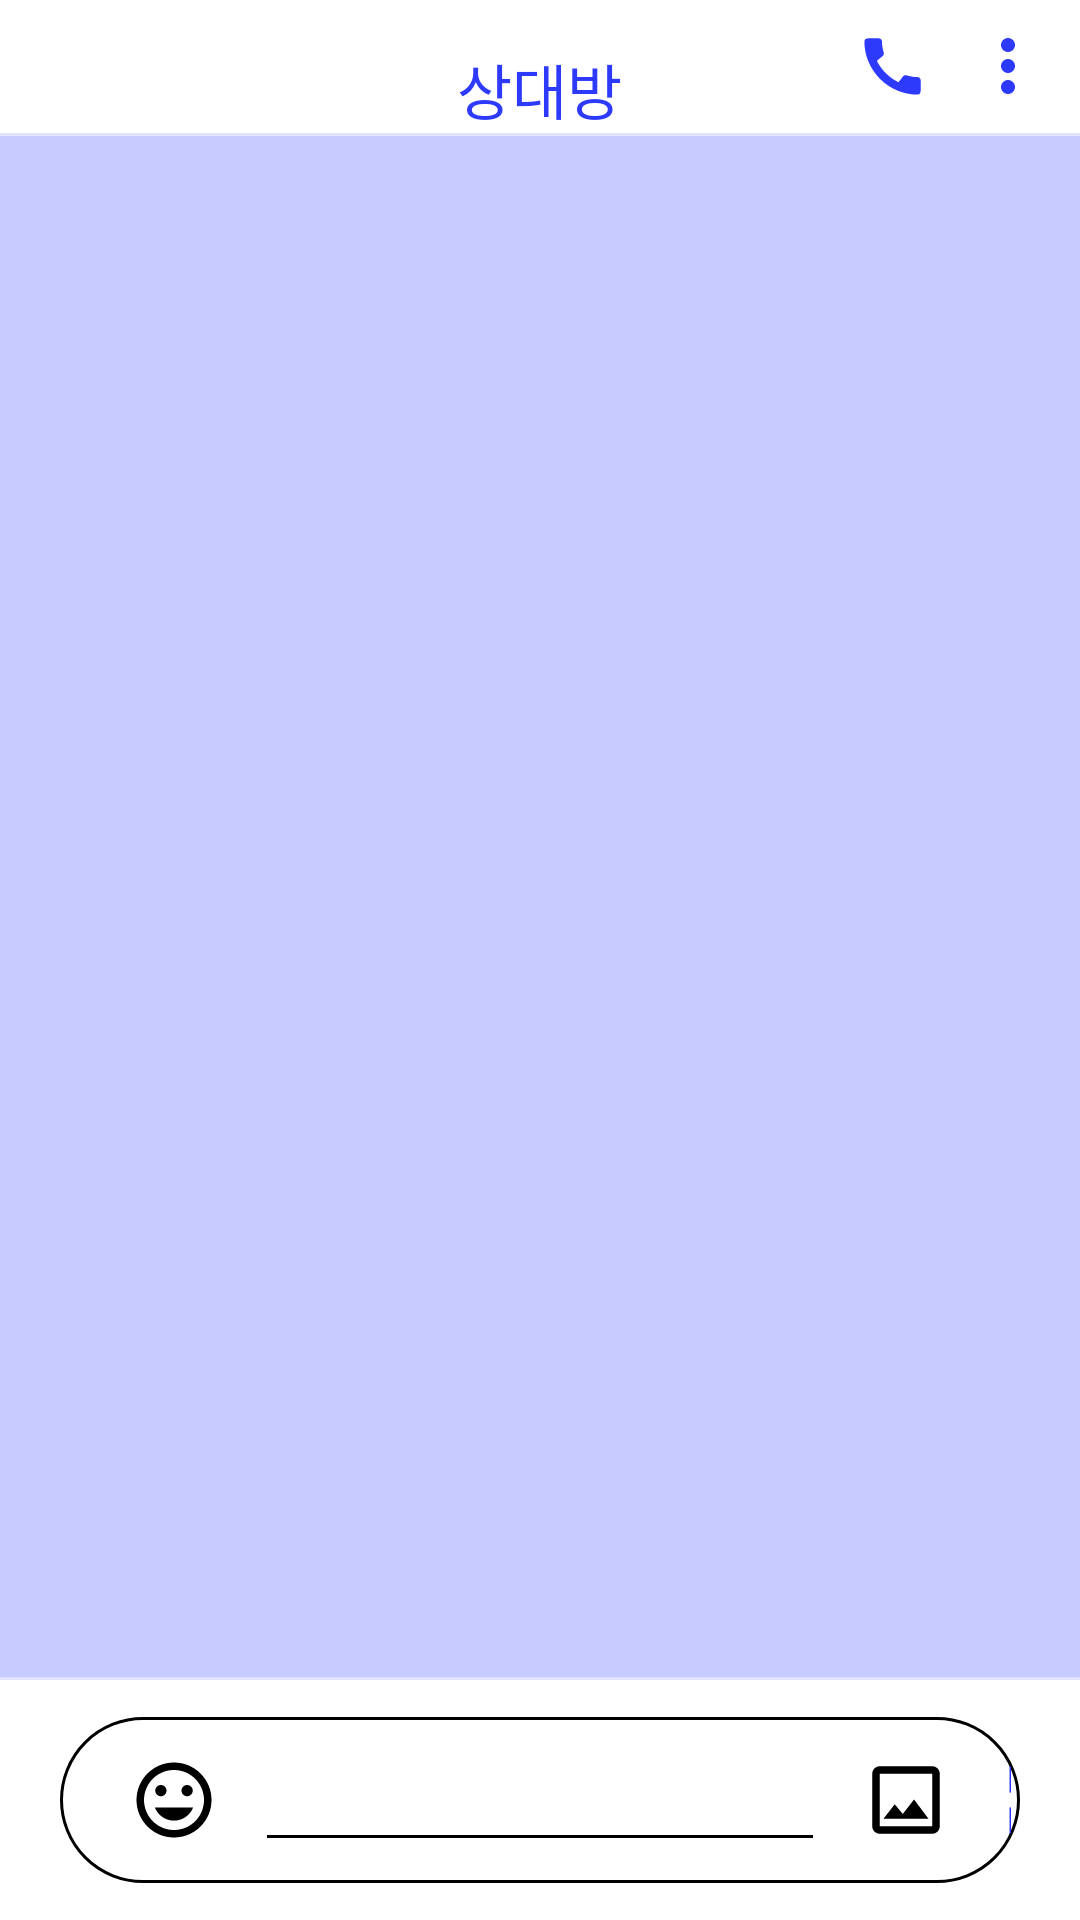

Icon bounding boxes for this 1080 x 1920 phone screenshot, format (x1, y1, x2, y2):
call: (864, 38, 921, 95)
more: (1001, 38, 1015, 94)
msg chat photo: (872, 1766, 940, 1834)
smile: (136, 1762, 212, 1838)
